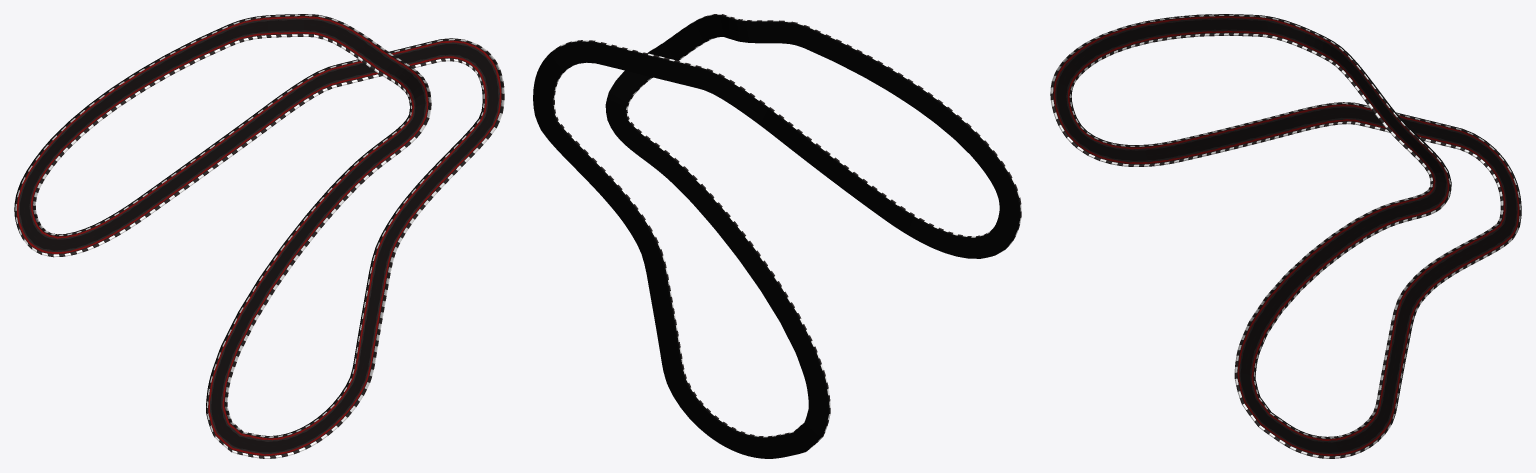
File: TestTrack.fbx
The picture shows the model from 3 angles, left to right: view 1: azimuth 30°, elevation 25°; view 2: azimuth 150°, elevation 25°; view 3: azimuth 330°, elevation 25°; orthographic projection. The views are drawn at different scales.
Parts seen in each view (by area): view 1: TestTrack; view 2: TestTrack; view 3: TestTrack.
Boxes of the visible parts, x1,y1,x2,y2 form: TestTrack: (14,14,504,458); TestTrack: (533,14,1021,458); TestTrack: (1050,14,1521,458).
Bounding box in the file's own units: 44732 × 38988 × 2106.
